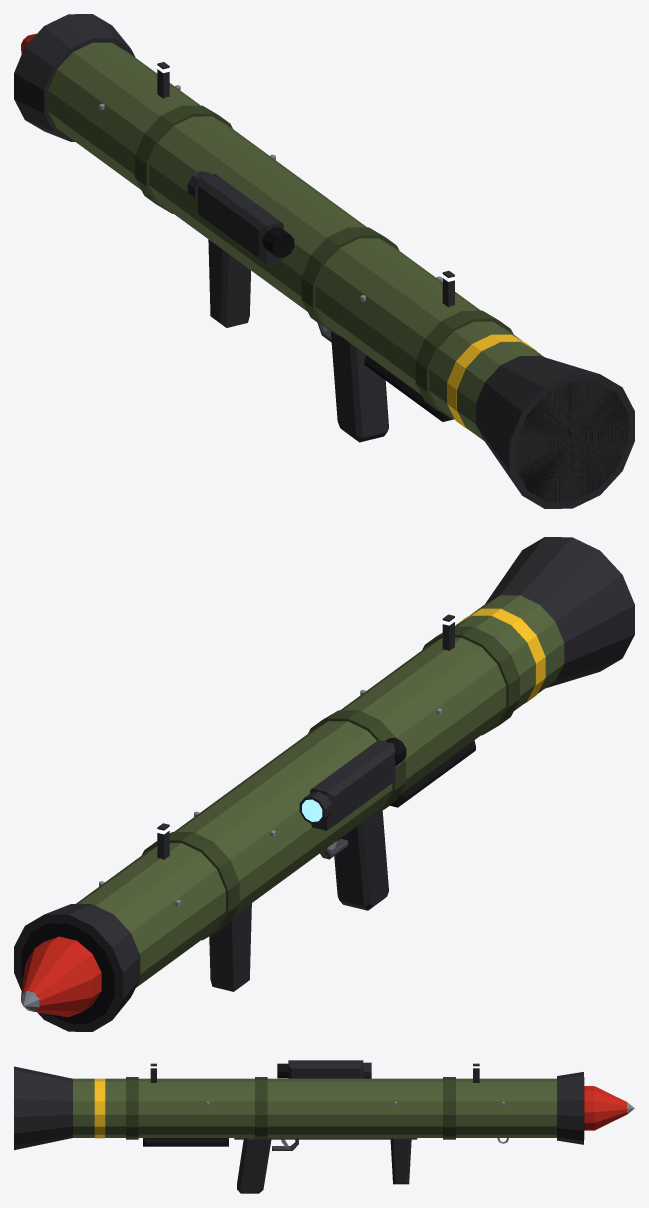
File: bazooka.glb
The picture shows the model from 3 angles, top to bottom: view 1: azimuth 30°, elevation 25°; view 2: azimuth 150°, elevation 25°; view 3: azimuth 270°, elevation 25°; orthographic projection. The views are drawn at different scales.
Parts seen in each view (by area): view 1: body; view 2: body, rocket; view 3: body, rocket.
Boxes of the visible parts, x1,y1,x2,y2 form: body: (14, 14, 634, 508); body: (14, 537, 634, 1031); rocket: (21, 936, 101, 1017); body: (14, 1060, 584, 1193); rocket: (584, 1086, 634, 1130).
Size of the model in its own units: 0.1593 by 0.258 by 1.16.
